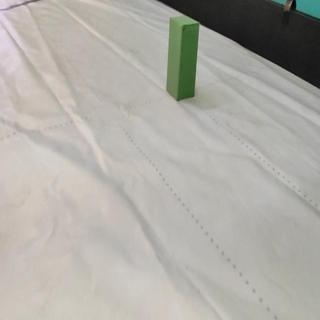greenbox: (167, 15, 201, 102)
